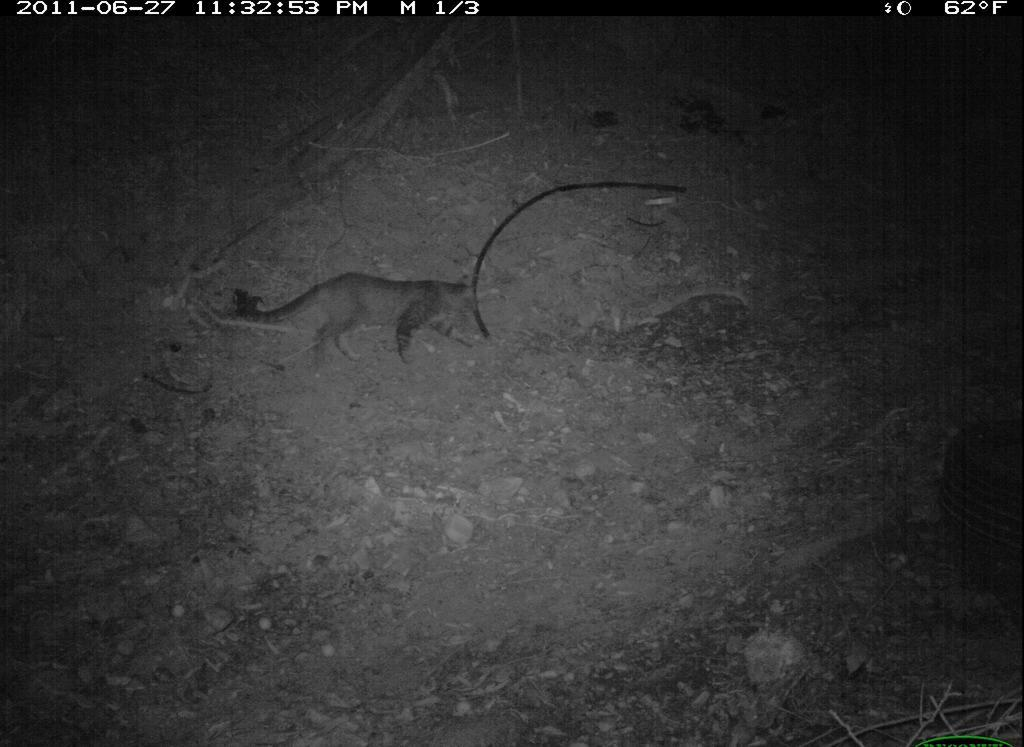cat: (212, 248, 487, 376)
